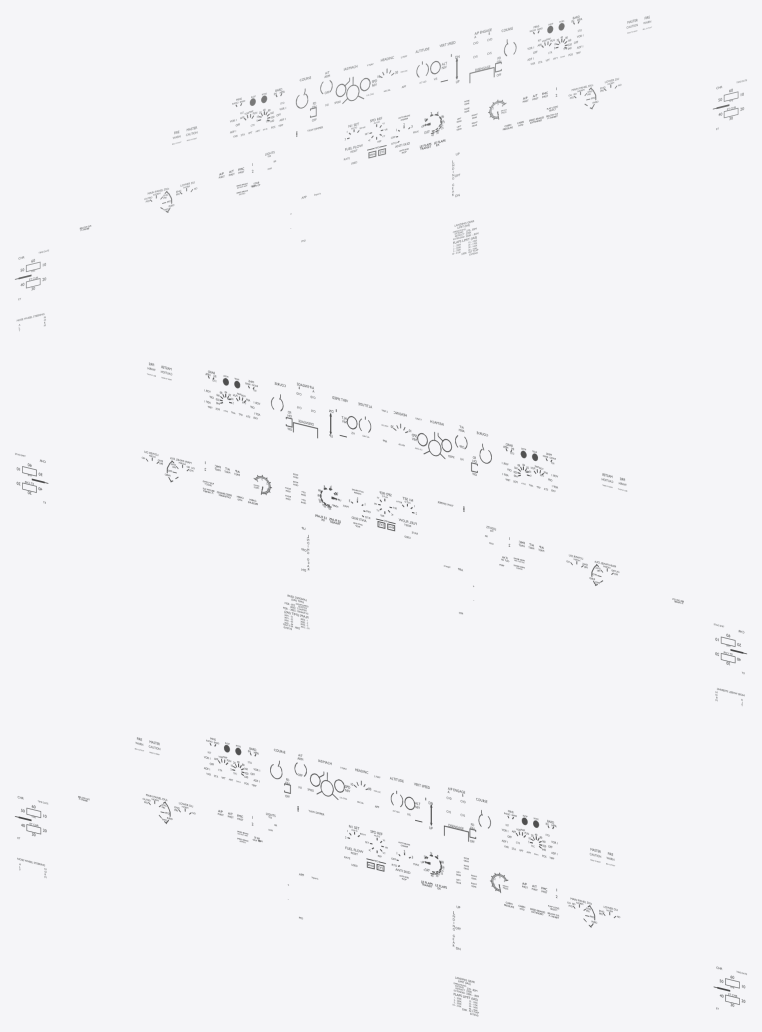
The model's file is 737-forward-labels.glb.
3 views of the same model, one above another, from view 1: azimuth 30°, elevation 25°; view 2: azimuth 150°, elevation 25°; view 3: azimuth 330°, elevation 25° (orthographic).
Visible parts, largest first — view 1: TextAtlas Text.985__0, TextAtlas Text.183_Material.057_0, TextAtlas Text.203_Material.081_0; view 2: TextAtlas Text.985__0, TextAtlas Text.183_Material.057_0; view 3: TextAtlas Text.985__0, TextAtlas Text.183_Material.057_0, TextAtlas Text.203_Material.081_0.
Boxes of the visible parts, x1,y1,x2,y2 form: TextAtlas Text.985__0: [17, 15, 746, 330]; TextAtlas Text.183_Material.057_0: [15, 16, 738, 288]; TextAtlas Text.203_Material.081_0: [80, 91, 557, 230]; TextAtlas Text.985__0: [15, 370, 744, 705]; TextAtlas Text.183_Material.057_0: [22, 362, 746, 662]; TextAtlas Text.985__0: [17, 737, 746, 1016]; TextAtlas Text.183_Material.057_0: [15, 737, 739, 1004]; TextAtlas Text.203_Material.081_0: [78, 796, 558, 918].
Size of the model in its own units: 1.41 by 0.4367 by 0.0735.
Materials: 4 (4 with a texture image).
